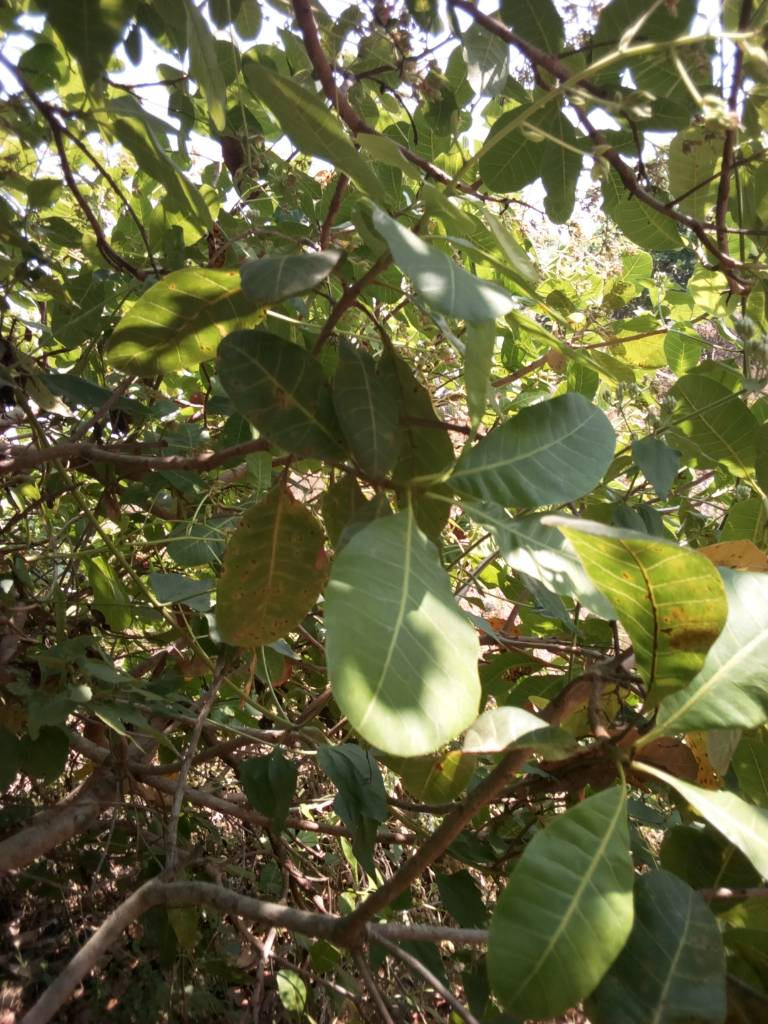Alternariose: (218, 482, 330, 652), (218, 327, 343, 464)
